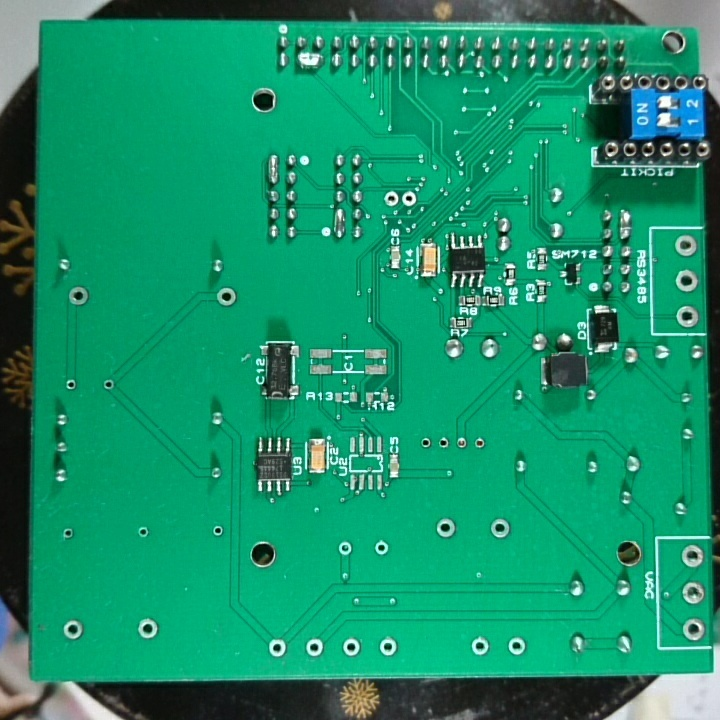F: (679, 578, 706, 610), (679, 543, 706, 571), (681, 615, 707, 643), (674, 268, 700, 295), (674, 304, 700, 330), (136, 616, 161, 642), (673, 233, 699, 258), (434, 515, 458, 542), (66, 283, 91, 308), (487, 516, 513, 540), (265, 635, 288, 661), (213, 285, 238, 308), (340, 635, 363, 660), (377, 635, 400, 660), (61, 618, 85, 641), (469, 634, 492, 658), (505, 635, 528, 659), (304, 636, 325, 658), (380, 189, 400, 209), (372, 538, 392, 558), (400, 188, 419, 209), (434, 433, 454, 452), (336, 538, 354, 559), (417, 434, 435, 453), (63, 376, 79, 394), (101, 375, 116, 394), (210, 522, 225, 541), (454, 434, 469, 452), (473, 434, 487, 452), (136, 524, 151, 540), (61, 525, 76, 540)
P: (294, 49, 326, 74), (616, 206, 634, 242), (331, 206, 346, 241), (266, 151, 280, 188)
